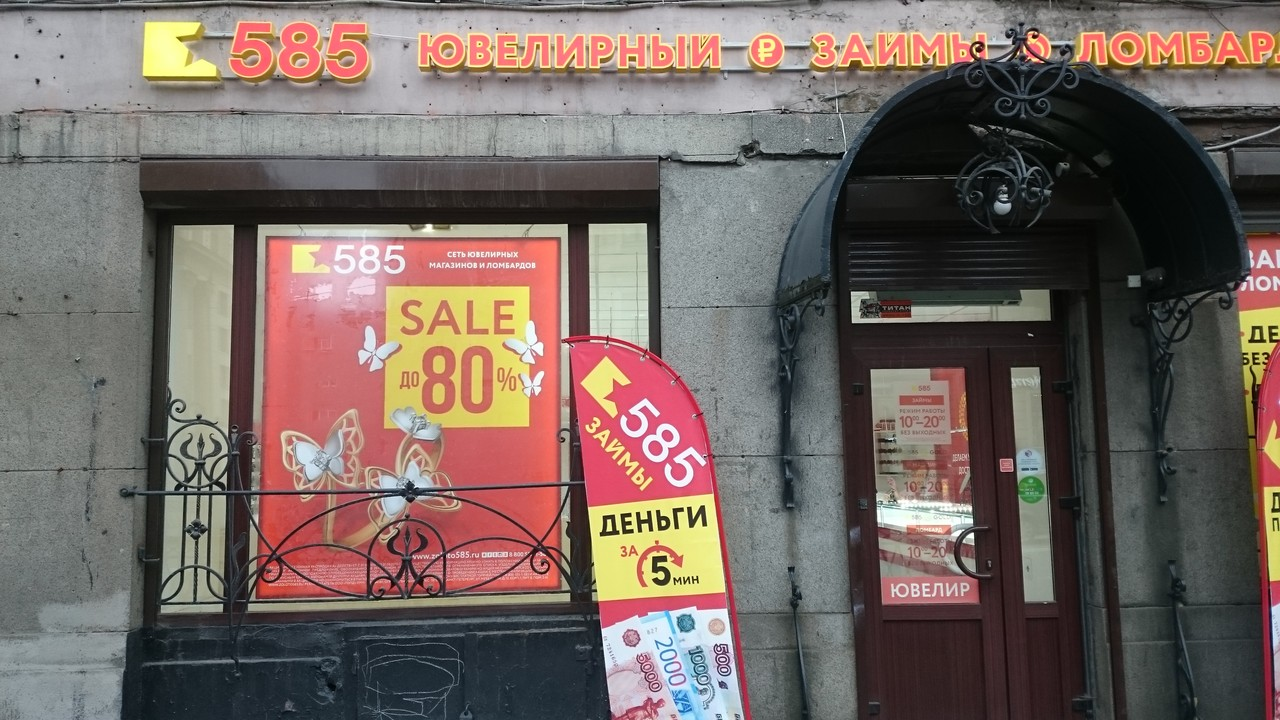door: (844, 344, 1011, 720)
signboard: (138, 18, 1280, 77)
win_ad: (265, 236, 563, 591)
window: (152, 205, 656, 612)
